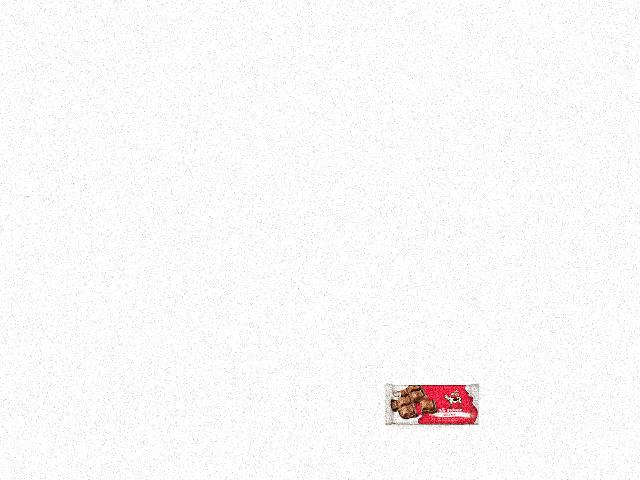chocolate: (383, 389, 494, 447)
